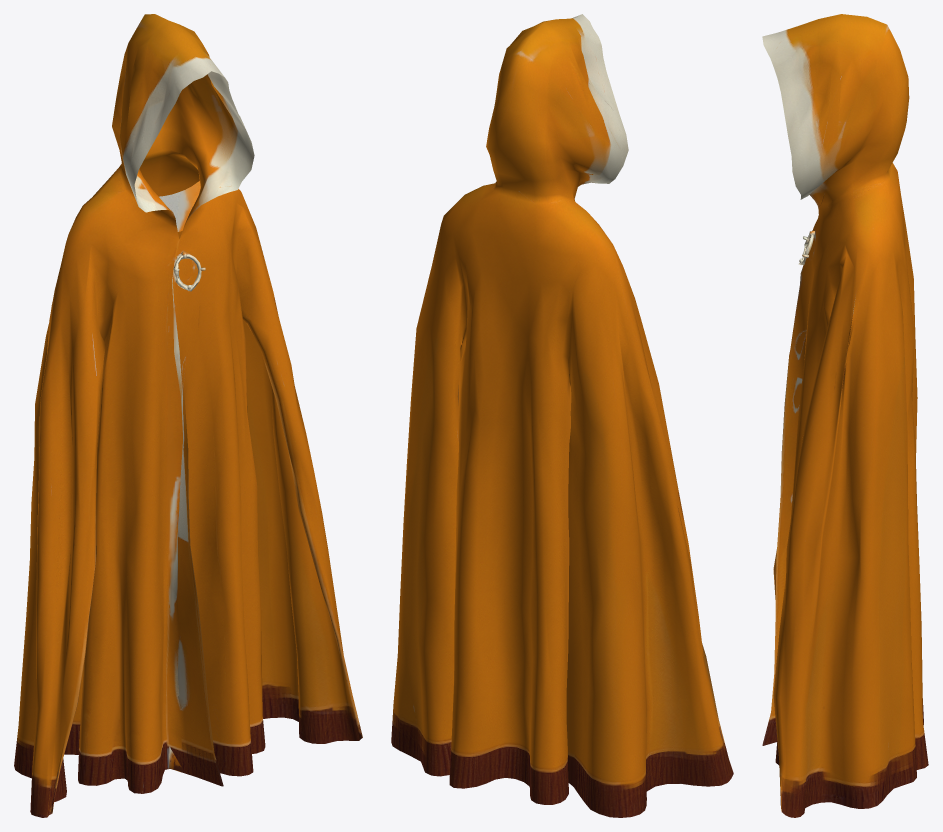
The model's file is wool-cloak_refine.glb.
3 renders of one model, left to right at view 1: azimuth 30°, elevation 25°; view 2: azimuth 150°, elevation 25°; view 3: azimuth 270°, elevation 25°, orthographic. The views are drawn at different scales.
Size of the model in its own units: 0.4336 by 0.9517 by 0.1968.
1 material, 1 textured.
